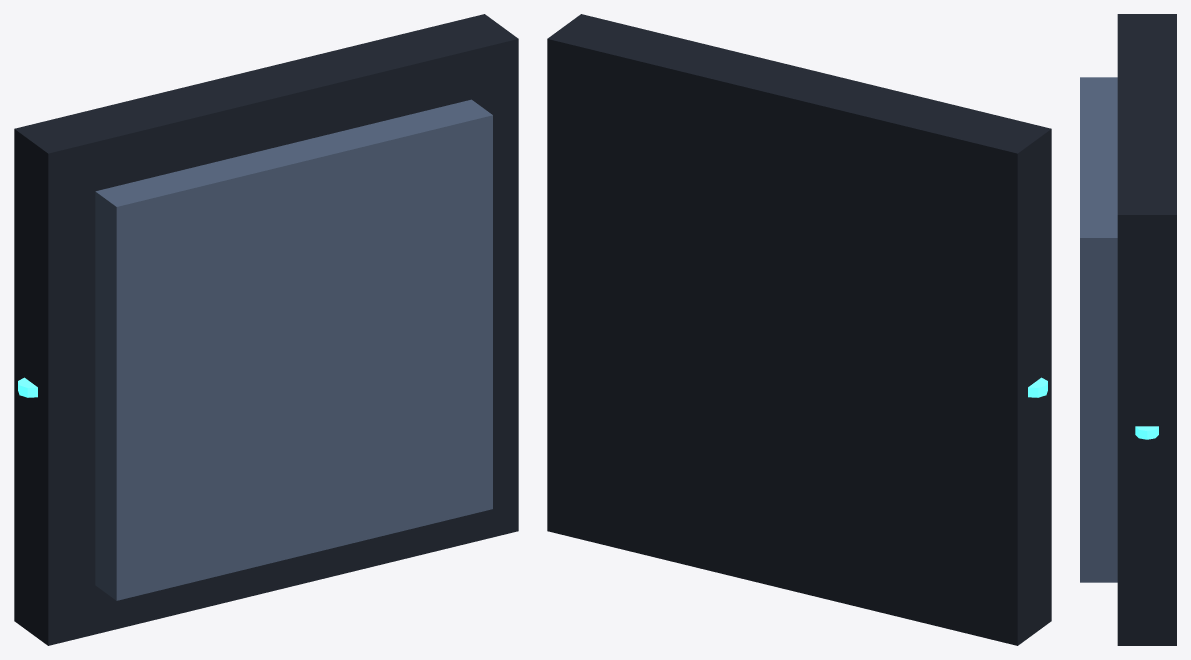
The model's file is mod_pared.fbx.
3 renders of one model, left to right at view 1: azimuth 30°, elevation 25°; view 2: azimuth 150°, elevation 25°; view 3: azimuth 270°, elevation 25°, orthographic. The views are drawn at different scales.
Visible parts, largest first — view 1: Pared; view 2: Pared; view 3: Pared, Pared_Conectores.
Part boxes in pixels (left/top/right/bottom): Pared: left=14, top=14, right=518, bottom=645; Pared: left=547, top=14, right=1051, bottom=645; Pared: left=1080, top=14, right=1176, bottom=645; Pared_Conectores: left=1135, top=426, right=1158, bottom=439.
Size of the model in its own units: 1.18 by 1.12 by 0.2282.
